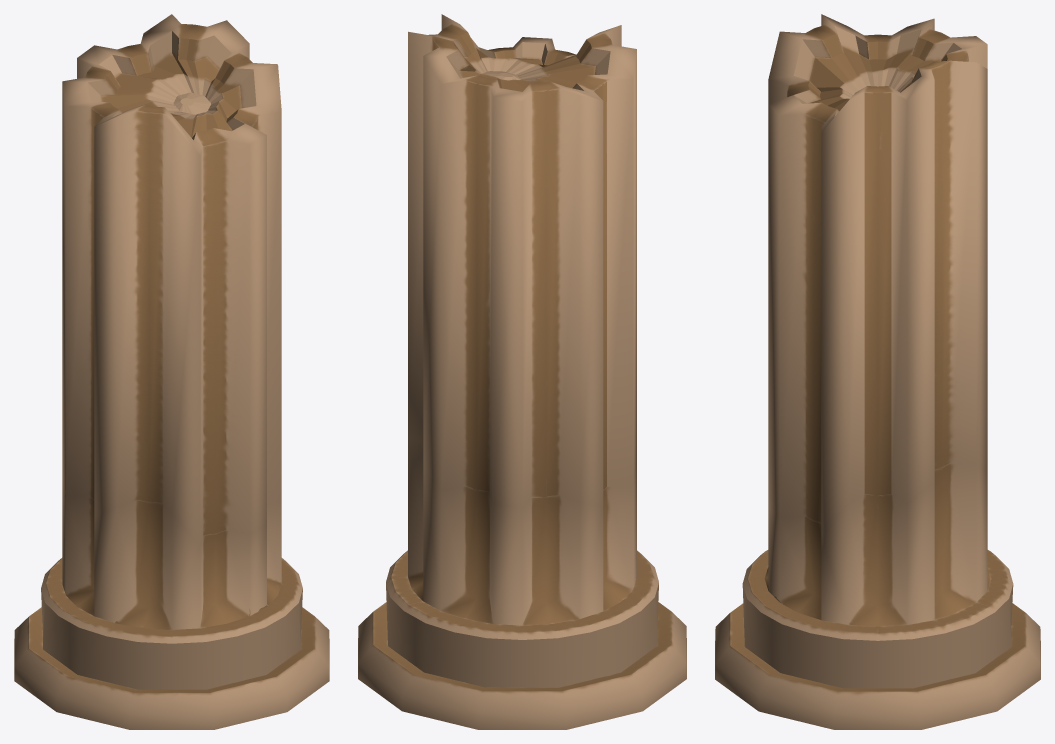
File: Pilar_Base_Alta.fbx
3 renders of one model, left to right at view 1: azimuth 30°, elevation 25°; view 2: azimuth 150°, elevation 25°; view 3: azimuth 270°, elevation 25°, orthographic. The views are drawn at different scales.
Parts seen in each view (by area): view 1: Pillar_Bot; view 2: Pillar_Bot; view 3: Pillar_Bot.
Part boxes in pixels (box(x1,y1,x2,y2)): Pillar_Bot: box(14, 14, 329, 729); Pillar_Bot: box(358, 14, 686, 729); Pillar_Bot: box(715, 14, 1040, 729).
Size of the model in its own units: 193 by 193 by 408.
Materials: 2 (2 with a texture image).
